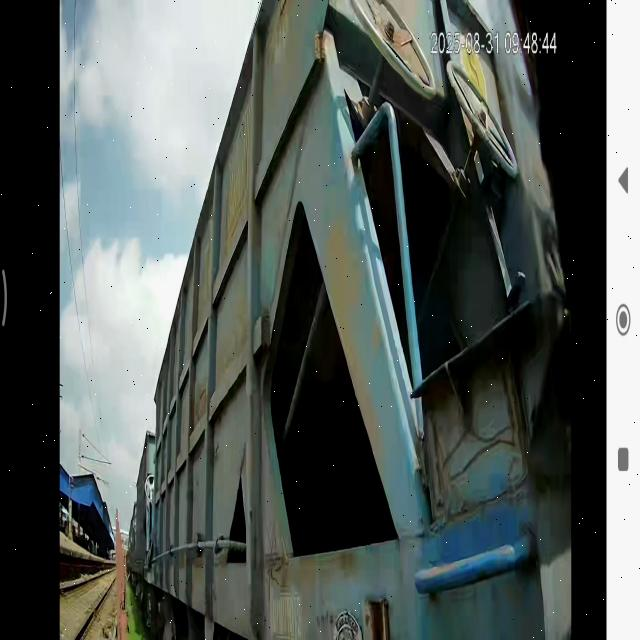coach: (155, 4, 363, 640)
